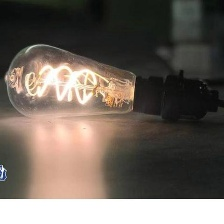light_bulb: (0, 40, 166, 127)
